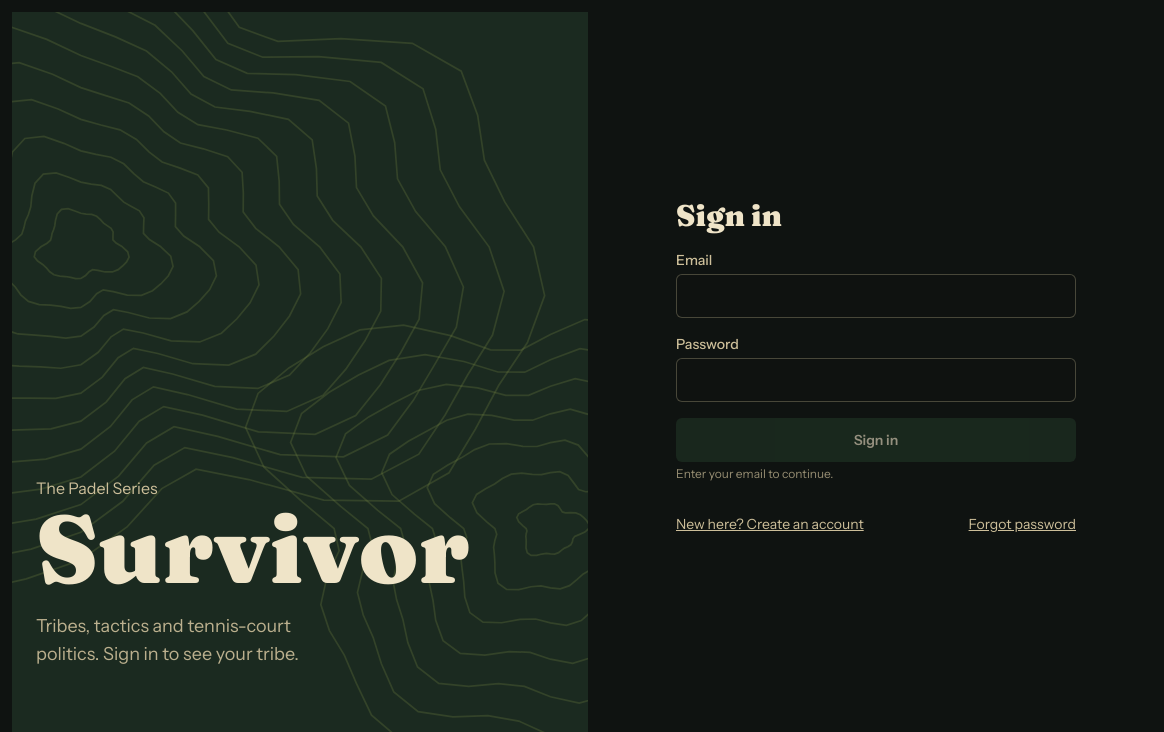
Test case: sign-in flow › explains a wrong password in plain words
Type "a@b.co" into the field labelled "Email".
click(876, 296); type("a@b.co")  # box [676,274,1076,318]
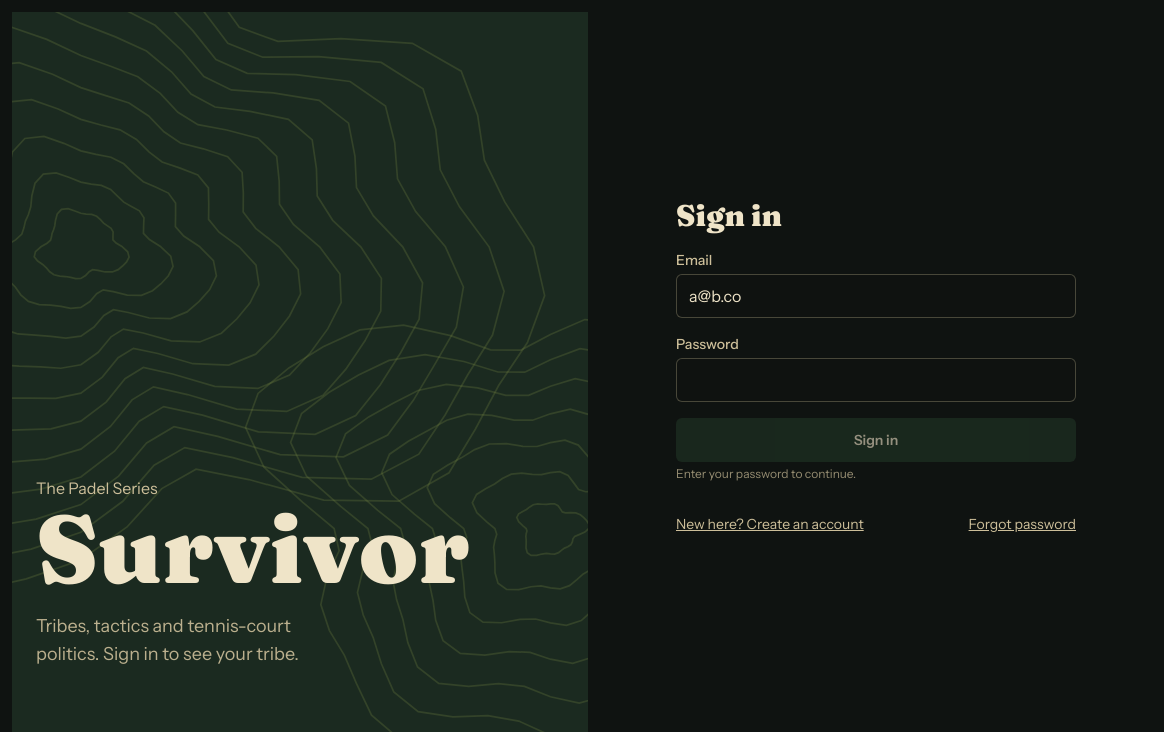
Type "wrongpass1" into the password field labelled "Password".
click(876, 380); type("wrongpass1")  # box [676,358,1076,402]
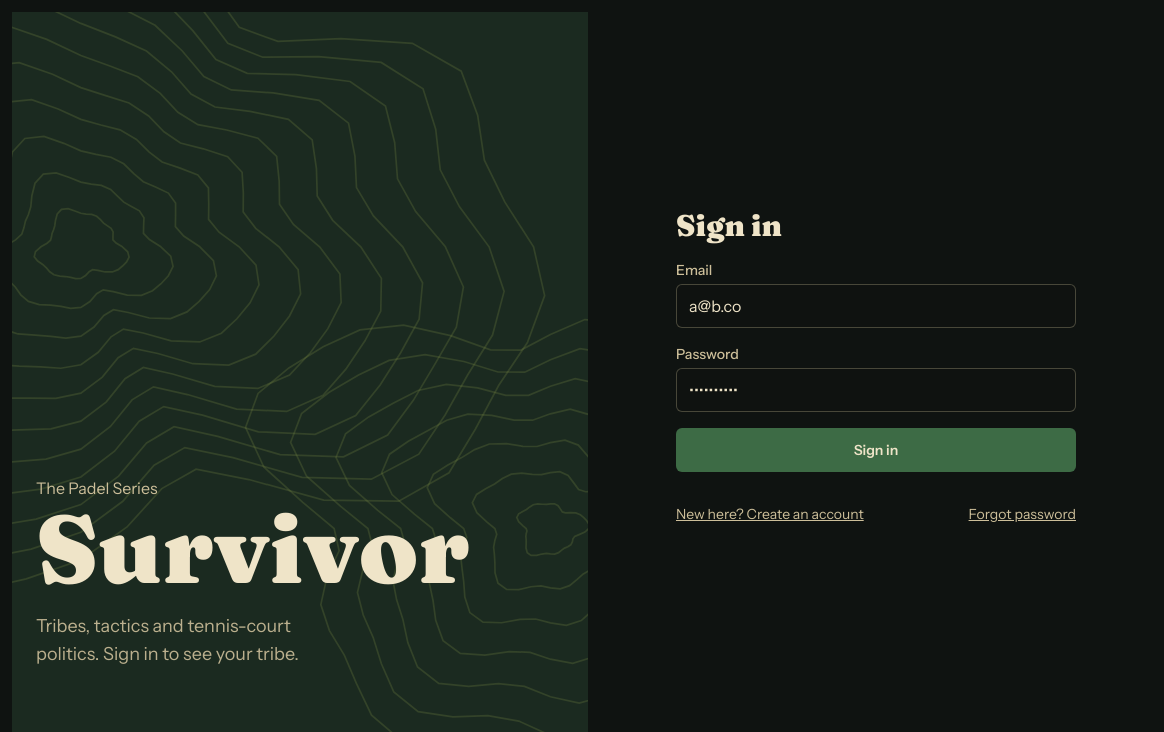
Click the button "Sign in".
click(876, 450)  # box [676,428,1076,472]
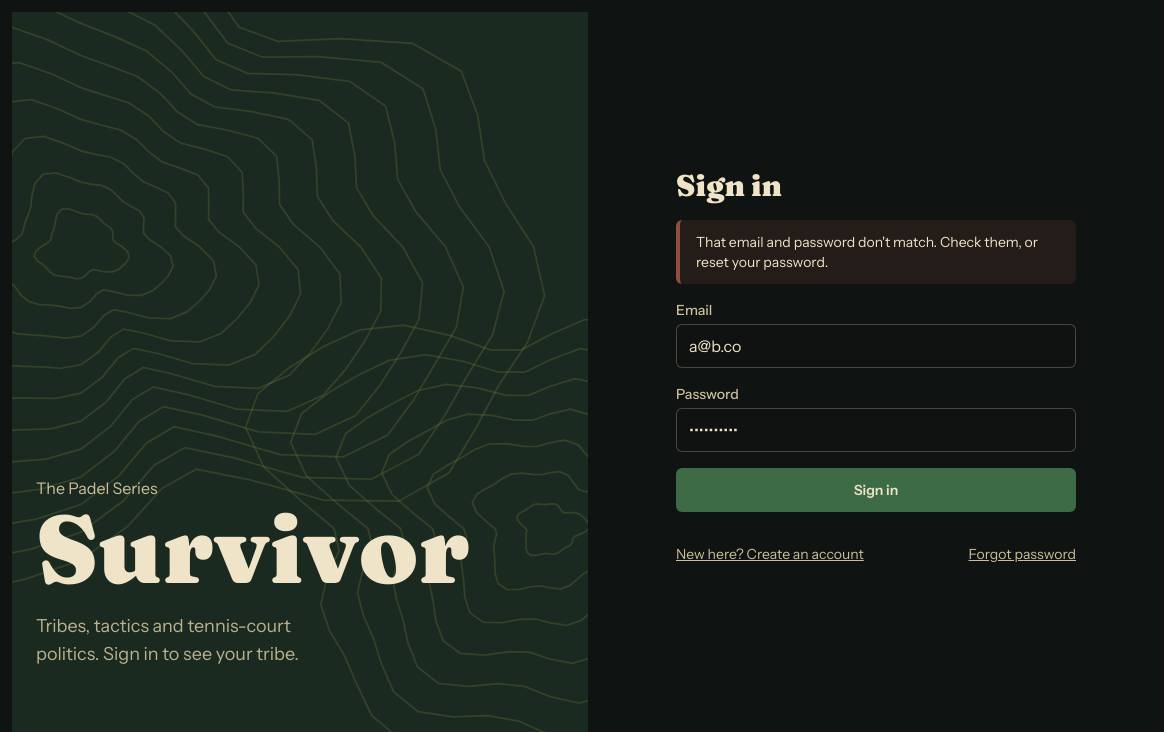
Now the message shows "don't match", box [696,233,1038,271]
